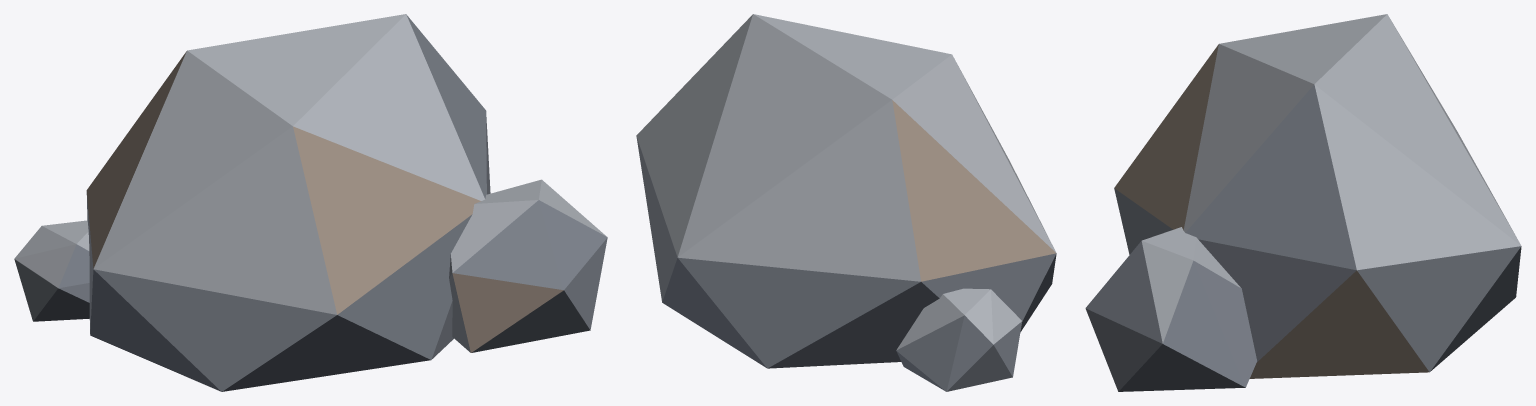
Rendered from rock_l1.glb.
3 views of the same model, side by side, from view 1: azimuth 30°, elevation 25°; view 2: azimuth 150°, elevation 25°; view 3: azimuth 270°, elevation 25° (orthographic). The views are drawn at different scales.
Parts seen in each view (by area): view 1: Body; view 2: Body; view 3: Body.
Boxes of the visible parts, bbox=[...] form: Body: bbox=[14, 14, 607, 391]; Body: bbox=[636, 14, 1056, 391]; Body: bbox=[1085, 14, 1521, 391].
Size of the model in its own units: 4.56 by 2.62 by 3.84.
